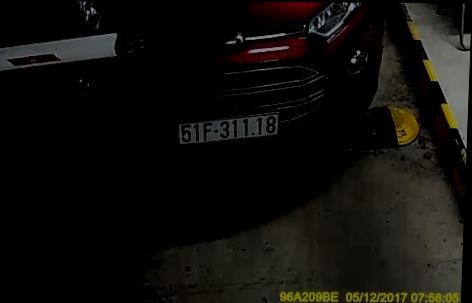License_Plate: (176, 115, 285, 149)
